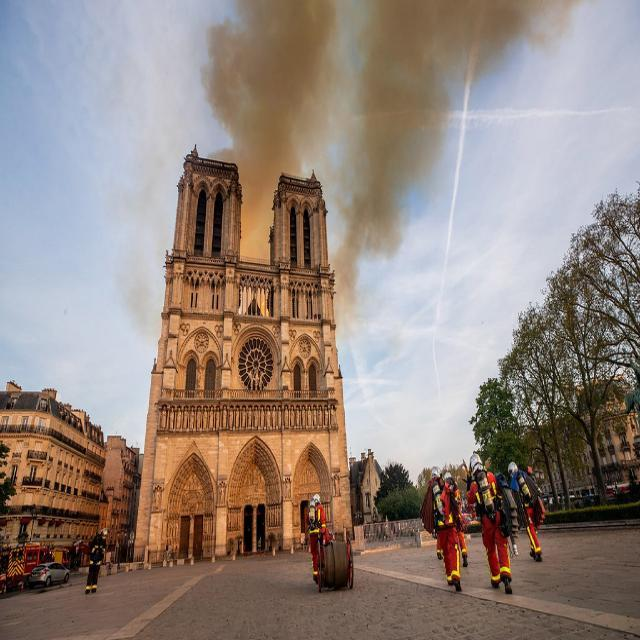Smoke: (330, 0, 584, 334), (89, 2, 194, 355), (197, 3, 331, 265)
